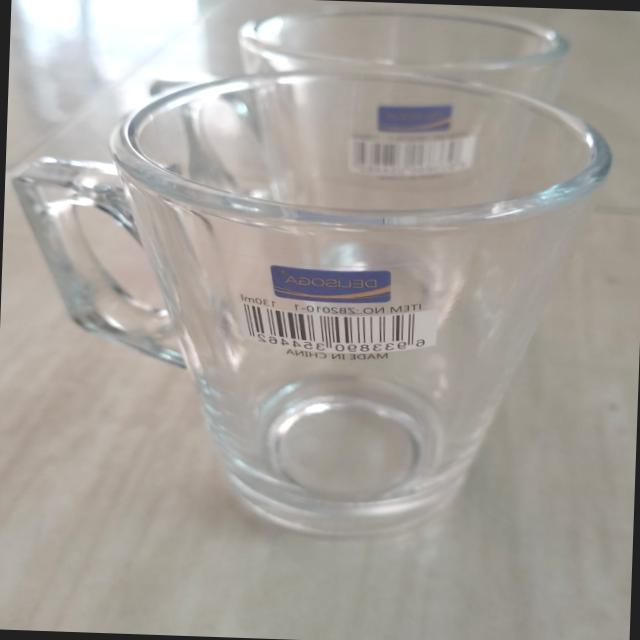glass-VX4N: (0, 61, 613, 553), (104, 4, 570, 372)
